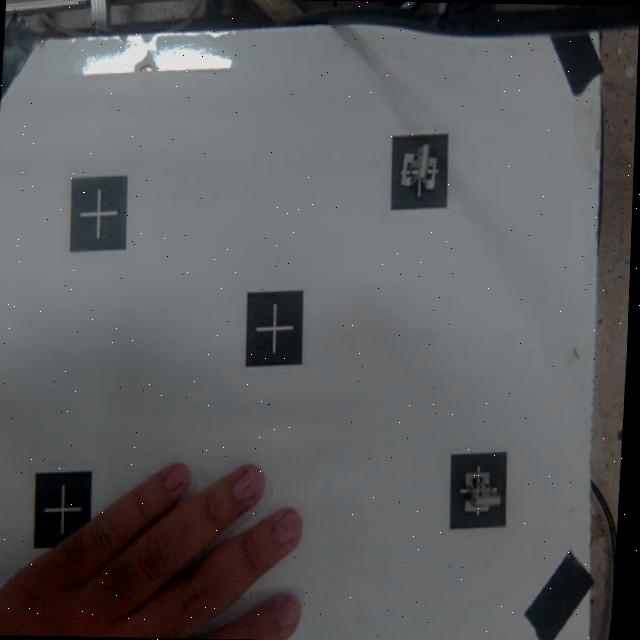pick5: (448, 450, 505, 526)
